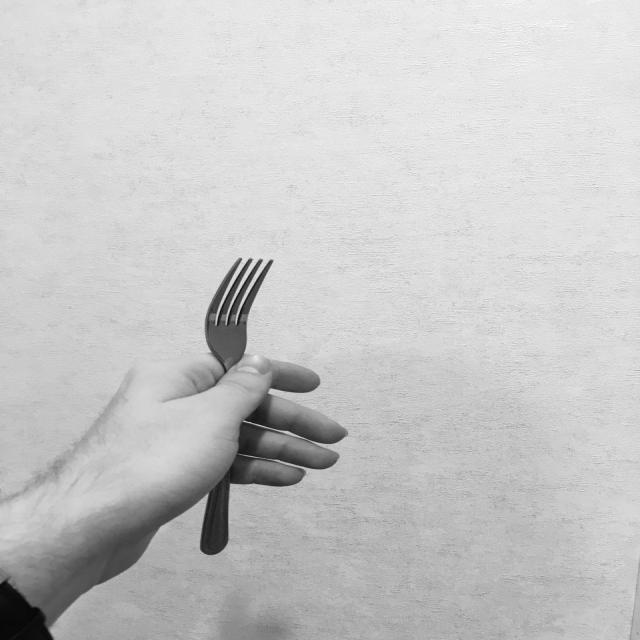fork: (200, 256, 281, 556)
